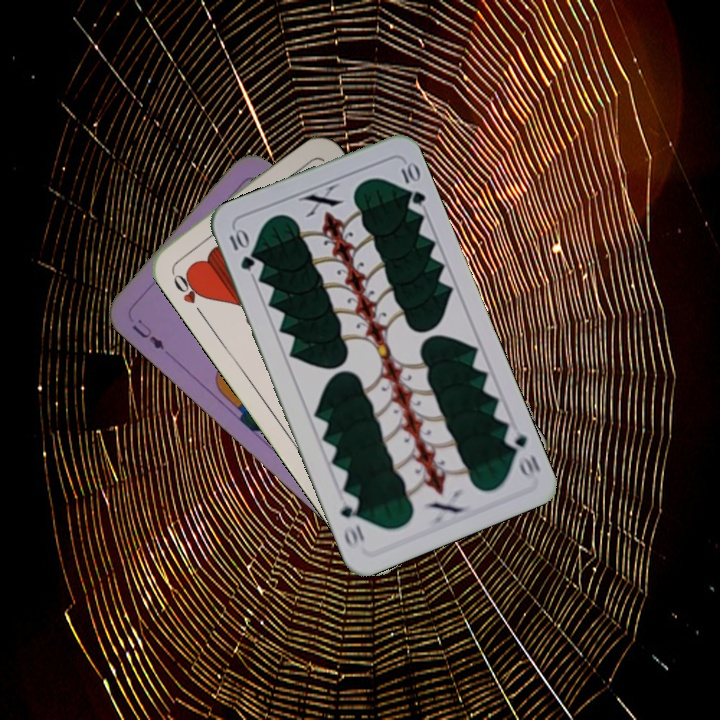EU: (127, 315, 167, 353)
G10: (500, 427, 544, 482), (225, 225, 257, 273)
HO: (167, 265, 209, 318)
